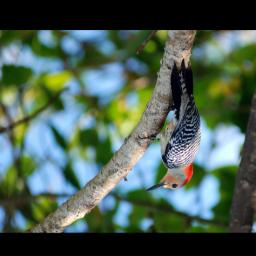Woodpecker: (136, 58, 201, 191)
